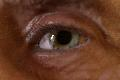eye: (49, 30, 79, 48)
